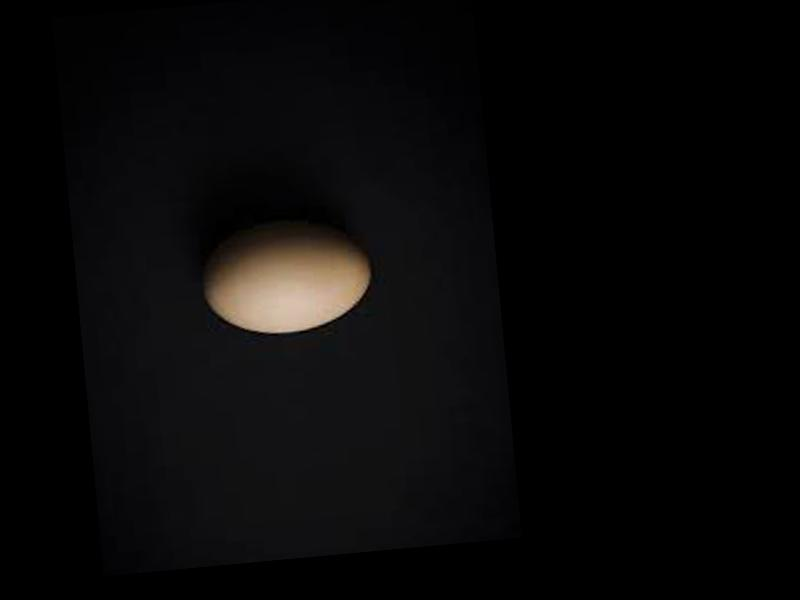Eggs: (196, 216, 379, 340)
